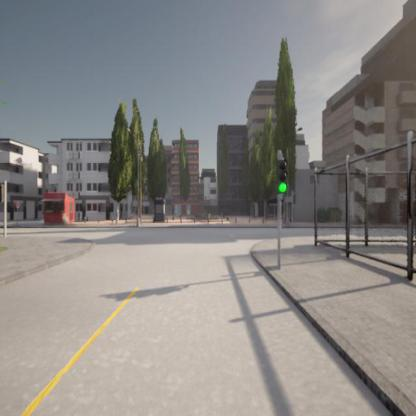traffic_light_green: (278, 157, 288, 193)
